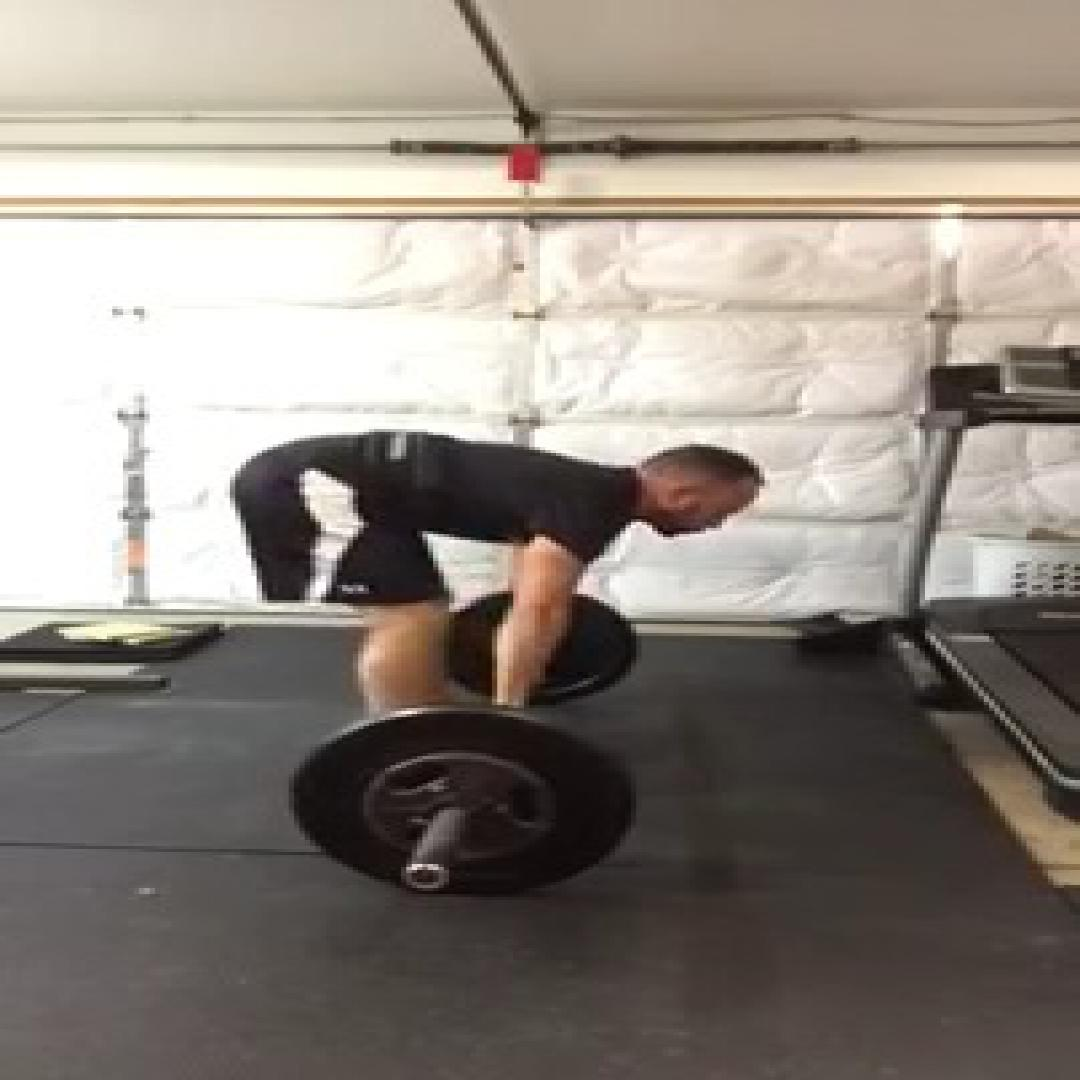Bar: (396, 861, 454, 891)
Barbell: (289, 702, 636, 900)
